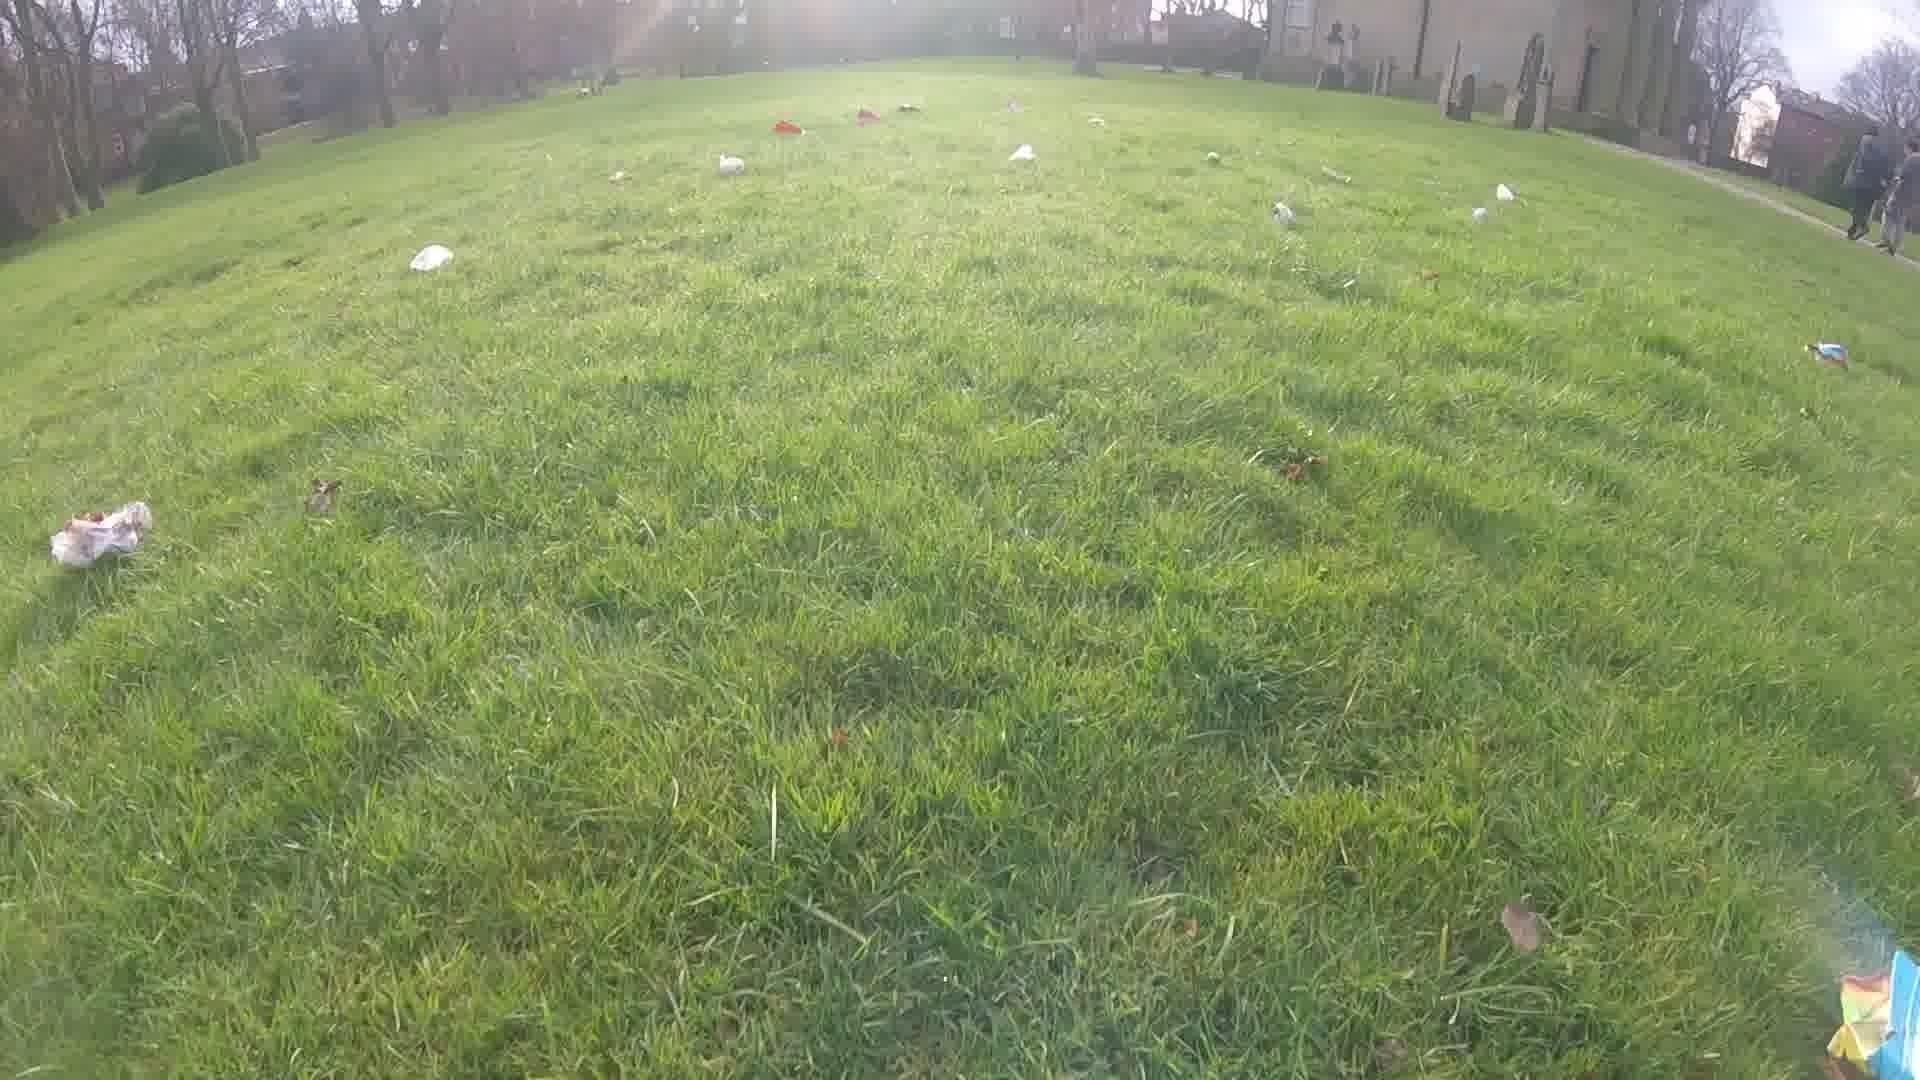litter: (1821, 949, 1917, 1073), (51, 512, 149, 564), (407, 243, 454, 274), (1804, 338, 1844, 363), (767, 115, 800, 142), (1000, 146, 1038, 165), (1266, 199, 1294, 224), (717, 152, 742, 174), (1491, 179, 1514, 204), (840, 109, 880, 123), (607, 167, 632, 187), (1324, 165, 1349, 183), (1469, 211, 1490, 225), (1204, 152, 1226, 165), (898, 102, 920, 113), (1001, 102, 1023, 113), (1083, 117, 1109, 127)
